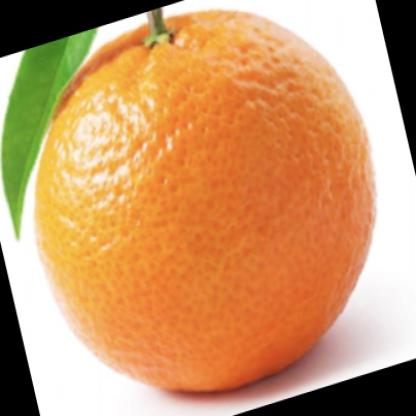orange: (27, 11, 373, 380)
